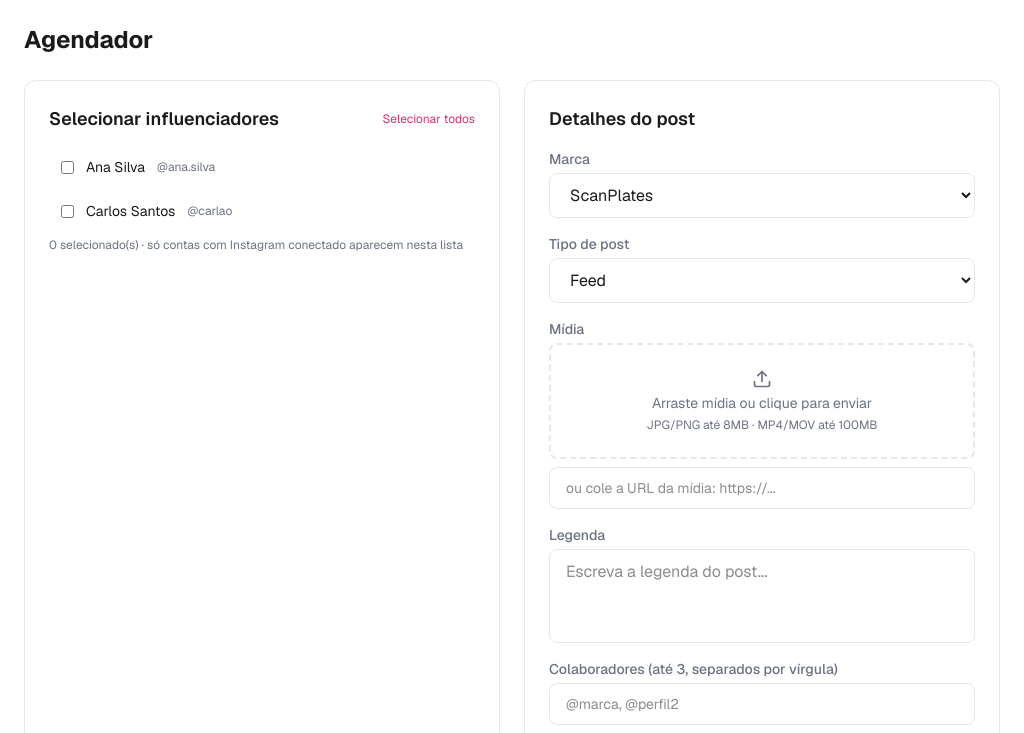
Scenario: AdminScheduler › for stories: hides caption/options and explains the official API limits
Select "Story (Imagem)" in the dropdown below "Tipo de post" at (762, 280), box [549, 258, 975, 303]
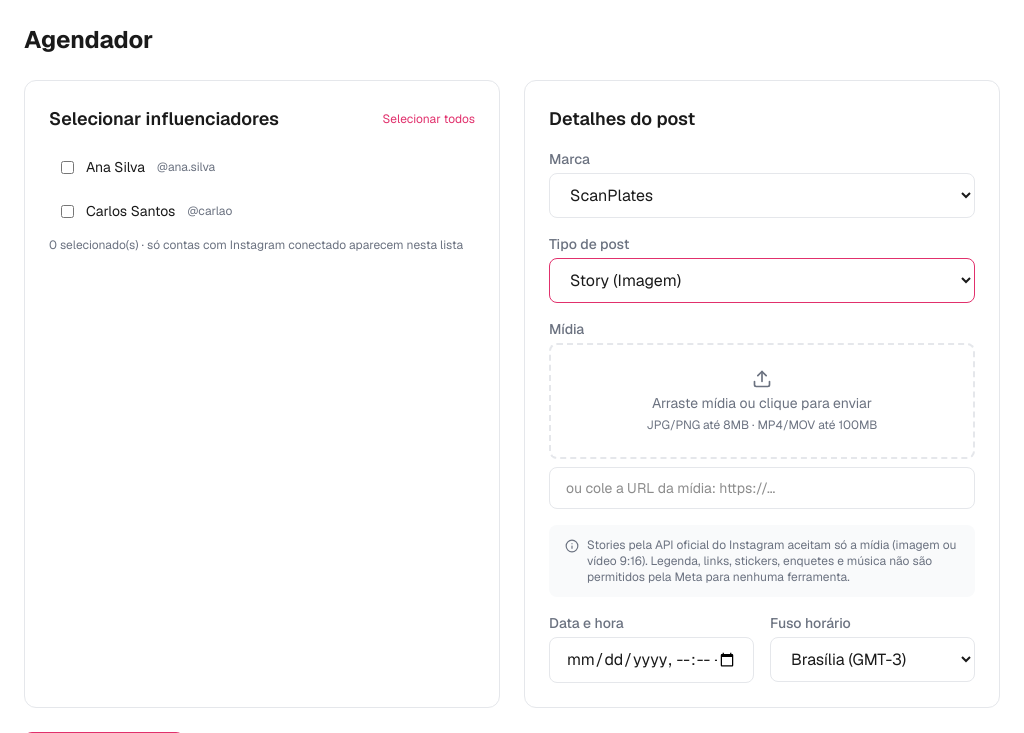
Check: the field with placeholder "legenda" is not shown
Check: the text "Colaboradores" is gone
Check: the text "stickers, enquetes e música não são permitidos" is shown, box [587, 537, 956, 585]
